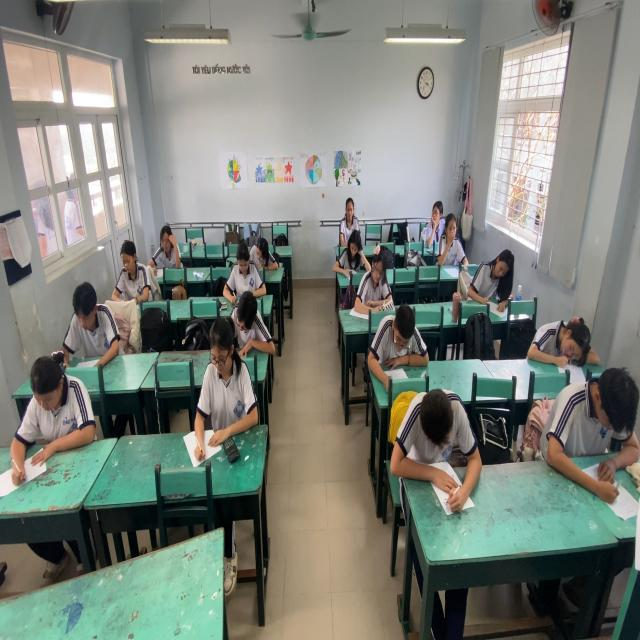not_cheating: (547, 360, 640, 485), (12, 347, 102, 457), (393, 388, 479, 496), (360, 302, 434, 385), (201, 301, 250, 426), (59, 278, 125, 368), (526, 308, 607, 378), (105, 229, 154, 301), (470, 243, 520, 312), (230, 288, 277, 354), (434, 212, 475, 271), (148, 220, 184, 280), (339, 215, 372, 274), (230, 246, 265, 301), (361, 250, 397, 301), (337, 188, 362, 239), (254, 233, 282, 278), (420, 195, 450, 236)
